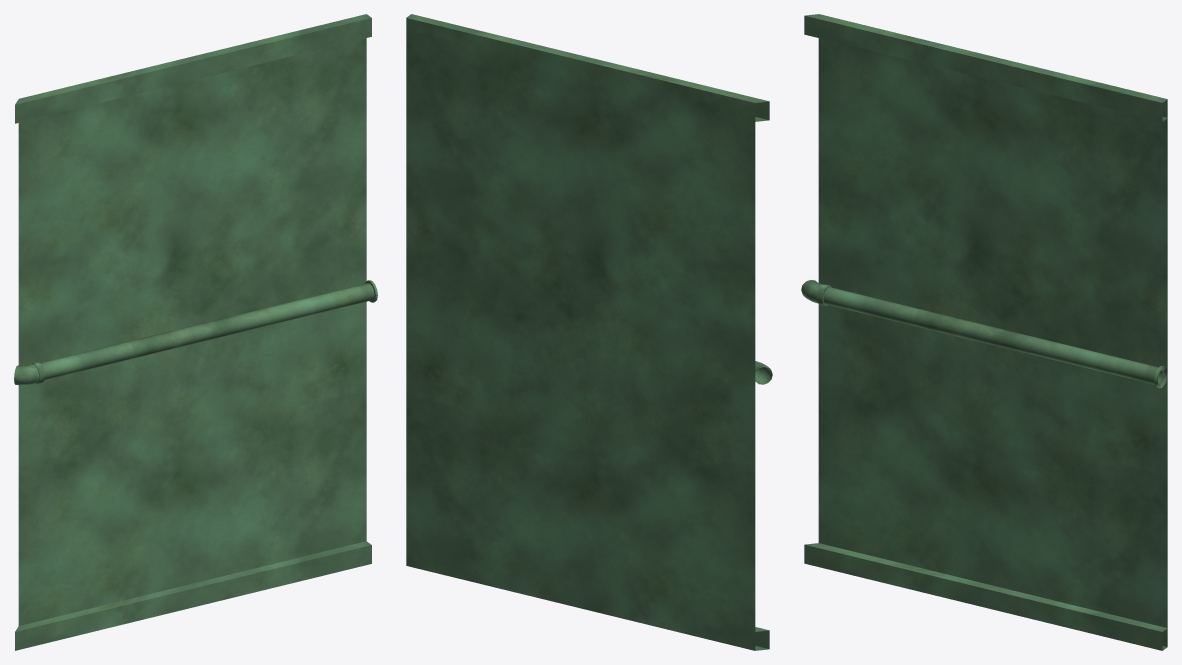
File: Wall_LowerDeck_Middle_Corner4.FBX
3 views of the same model, side by side, from view 1: azimuth 30°, elevation 25°; view 2: azimuth 150°, elevation 25°; view 3: azimuth 330°, elevation 25° (orthographic).
Parts seen in each view (by area): view 1: Plane019; view 2: Plane019; view 3: Plane019.
Boxes of the visible parts, x1,y1,x2,y2 form: Plane019: [14, 14, 377, 650]; Plane019: [406, 14, 772, 650]; Plane019: [801, 14, 1167, 650].
Size of the model in its own units: 206 by 300 by 11.81.
